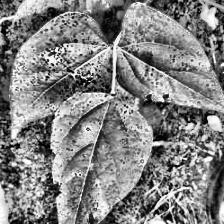ALS: (46, 93, 164, 224), (6, 12, 112, 137), (118, 2, 224, 127)
